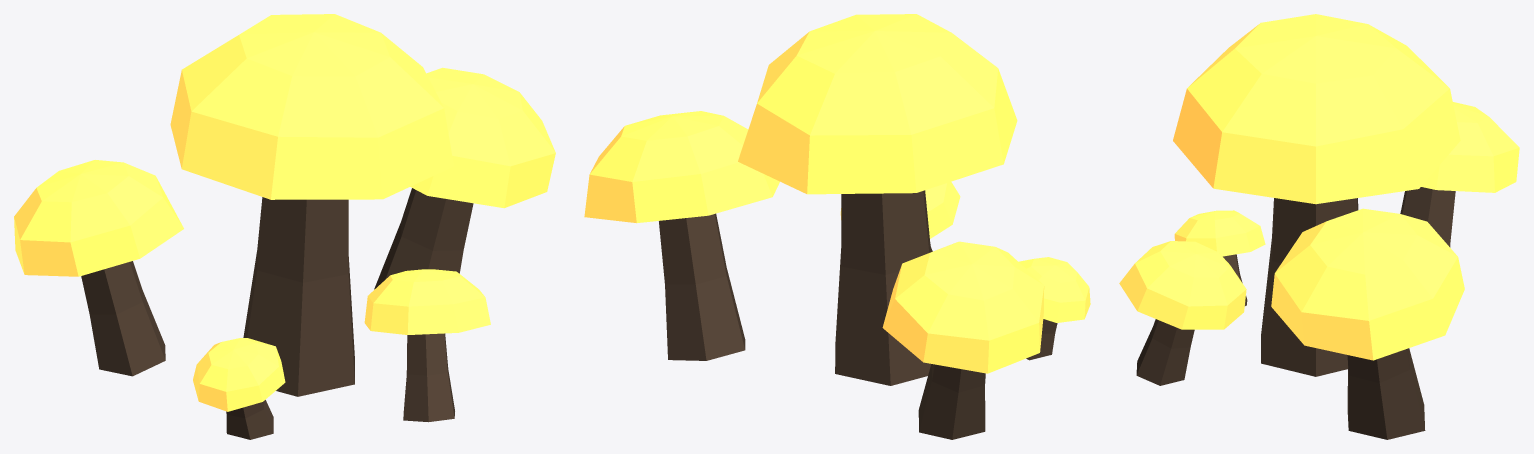
The model's file is MushroomCluster.fbx.
The picture shows the model from 3 angles, left to right: view 1: azimuth 30°, elevation 25°; view 2: azimuth 150°, elevation 25°; view 3: azimuth 270°, elevation 25°; orthographic projection. The views are drawn at different scales.
Parts seen in each view (by area): view 1: MushroomCluster; view 2: MushroomCluster; view 3: MushroomCluster.
Part boxes in pixels (box(x1,y1,x2,y2)): MushroomCluster: box(14, 14, 555, 439); MushroomCluster: box(584, 14, 1090, 439); MushroomCluster: box(1119, 14, 1519, 439).
Bounding box in the file's own units: 0.7703 × 0.5034 × 0.5682.
